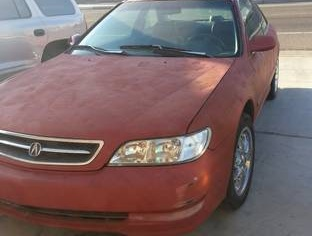acura: (1, 1, 280, 234)
